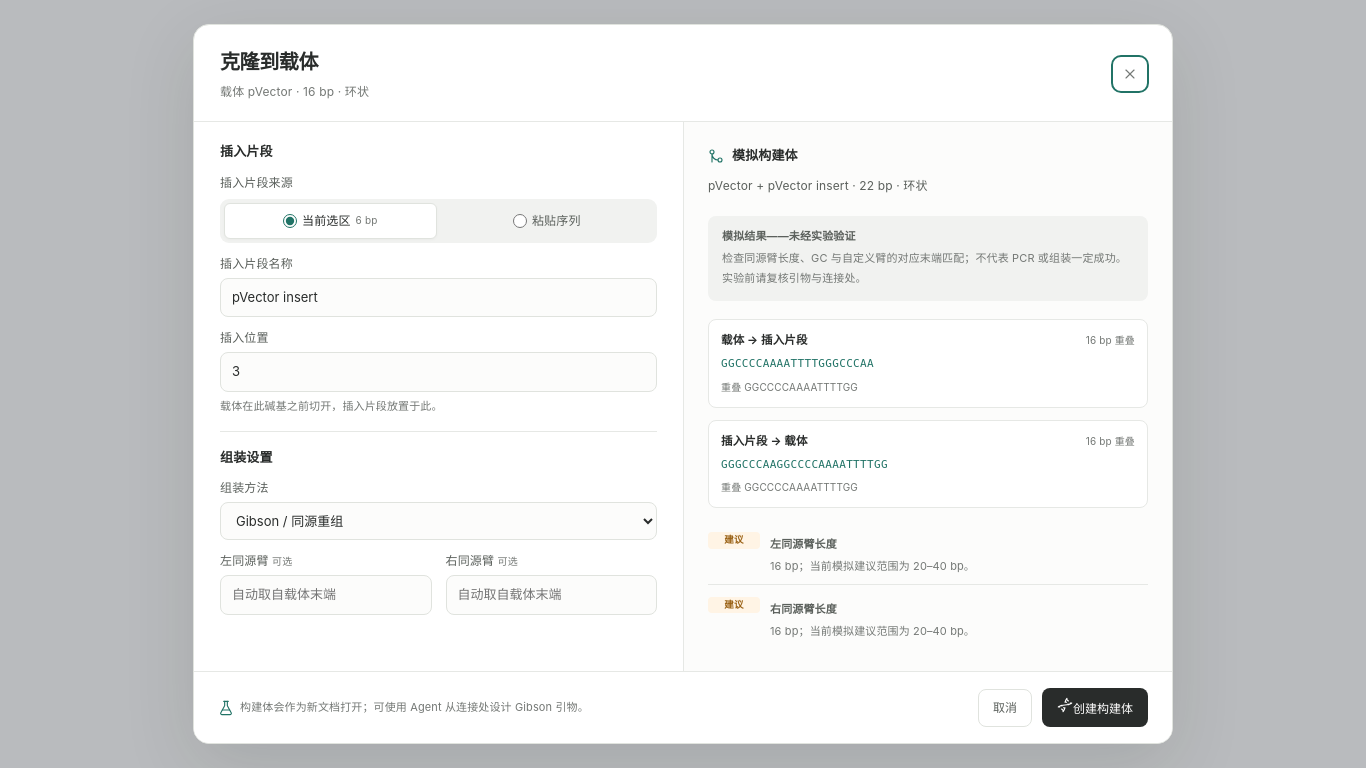
Scenario: CloningWizardDialog › blocks creation while the insert sequence is missing in paste mode
Click the radio button labelled "粘贴序列": x=520, y=220 [513,214,527,228]
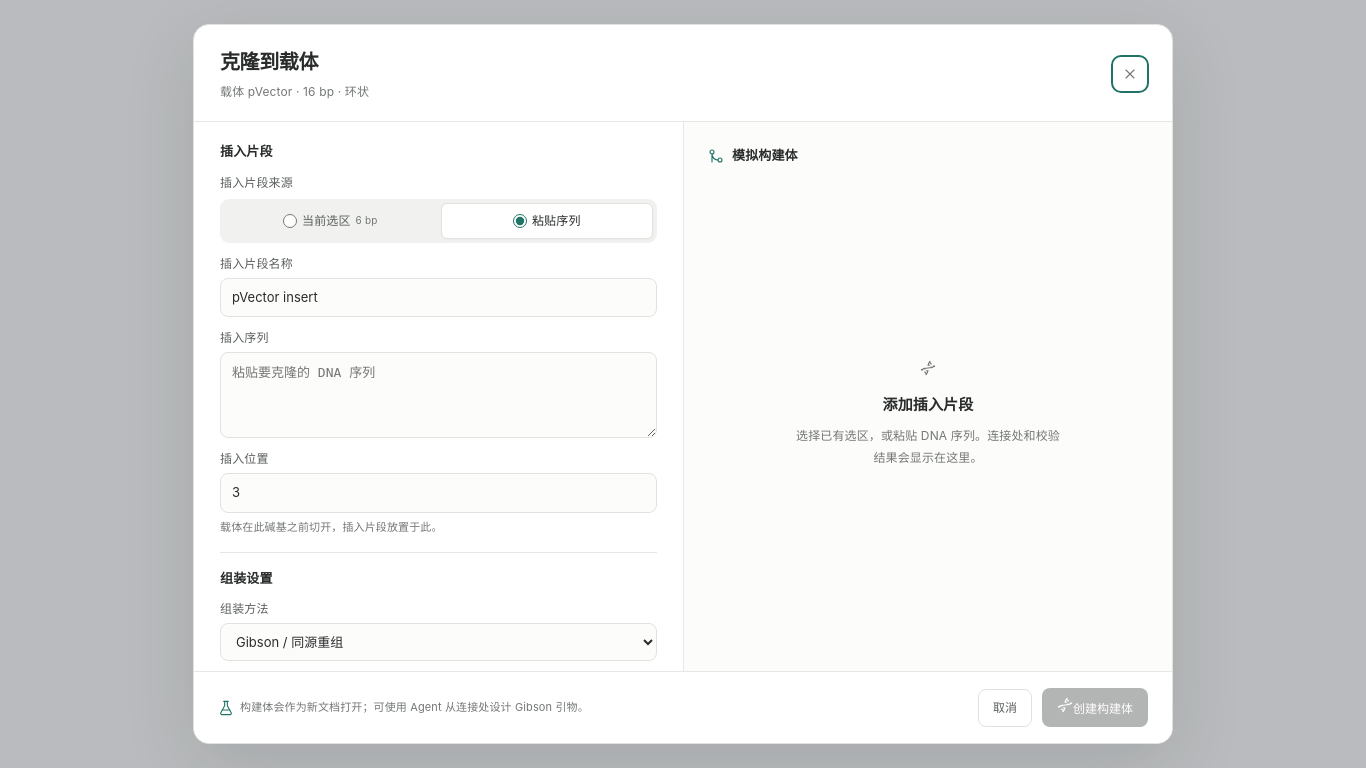
Check: the button "创建构建体" is disabled, box [1042,688,1148,727]
Check: the heading "添加插入片段" is shown, box [883,394,973,416]
Check: the text "建议" is gone
